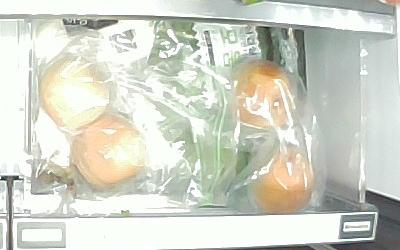peach_vinyl: (72, 113, 148, 188), (38, 56, 110, 129), (227, 61, 300, 130), (250, 144, 316, 214)
